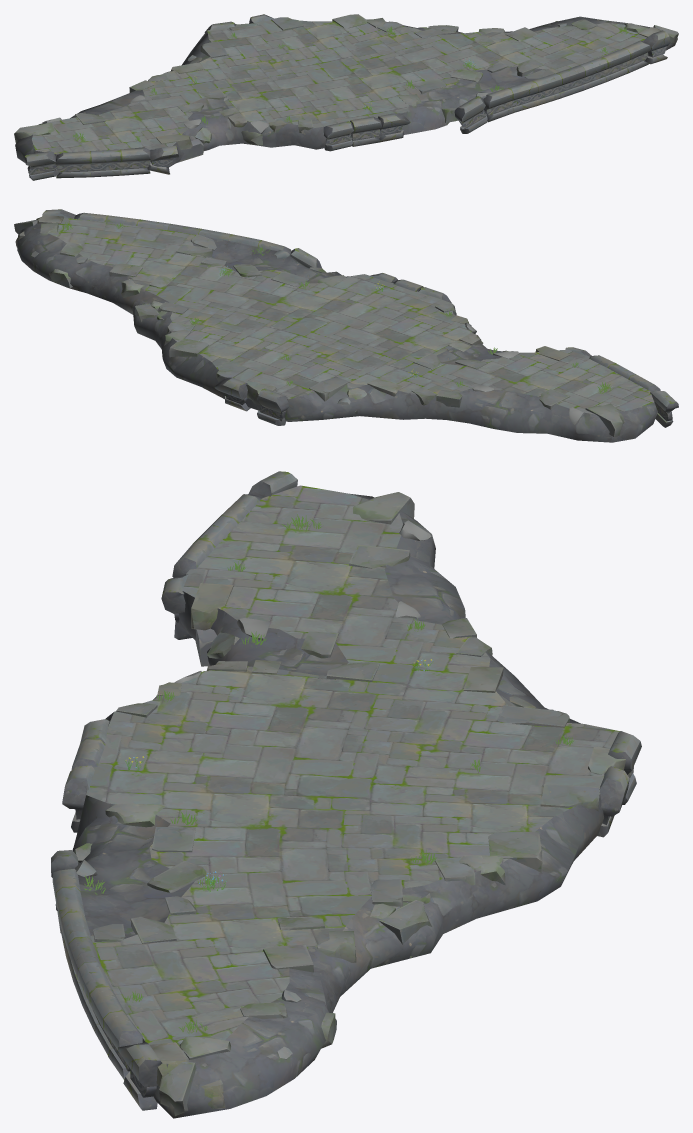
The model's file is Area_MdBuild_SdBridge12_Group.fbx.
The picture shows the model from 3 angles, top to bottom: view 1: azimuth 30°, elevation 25°; view 2: azimuth 150°, elevation 25°; view 3: azimuth 270°, elevation 25°; orthographic projection. The views are drawn at different scales.
Visible parts, largest first — view 1: Area_MdBuild_SdBridge12_Lod0, Area_MdProps_SdStone04_01_Vo; view 2: Area_MdBuild_SdBridge12_Lod0; view 3: Area_MdBuild_SdBridge12_Lod0.
Boxes of the visible parts, x1=… form: Area_MdBuild_SdBridge12_Lod0: x1=14, y1=14, x2=678, y2=180; Area_MdProps_SdStone04_01_Vo: x1=177, y1=139, x2=203, y2=162; Area_MdBuild_SdBridge12_Lod0: x1=14, y1=209, x2=678, y2=442; Area_MdBuild_SdBridge12_Lod0: x1=51, y1=471, x2=641, y2=1118.
Size of the model in its own units: 55.32 by 3.28 by 22.53.
Materials: 7 (7 with a texture image).
